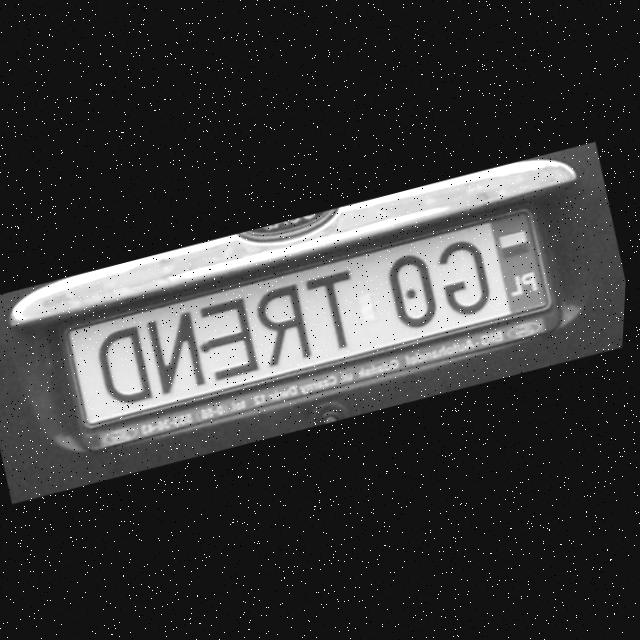license-plates: (65, 210, 550, 431)
